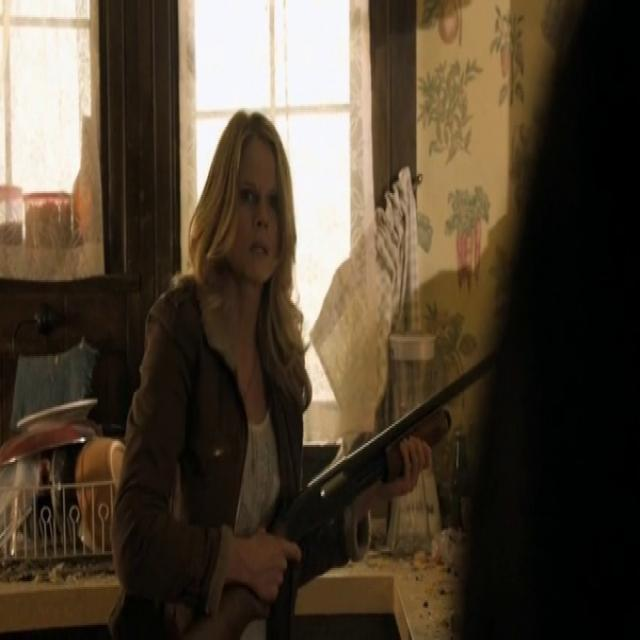rifle: (191, 350, 502, 640)
